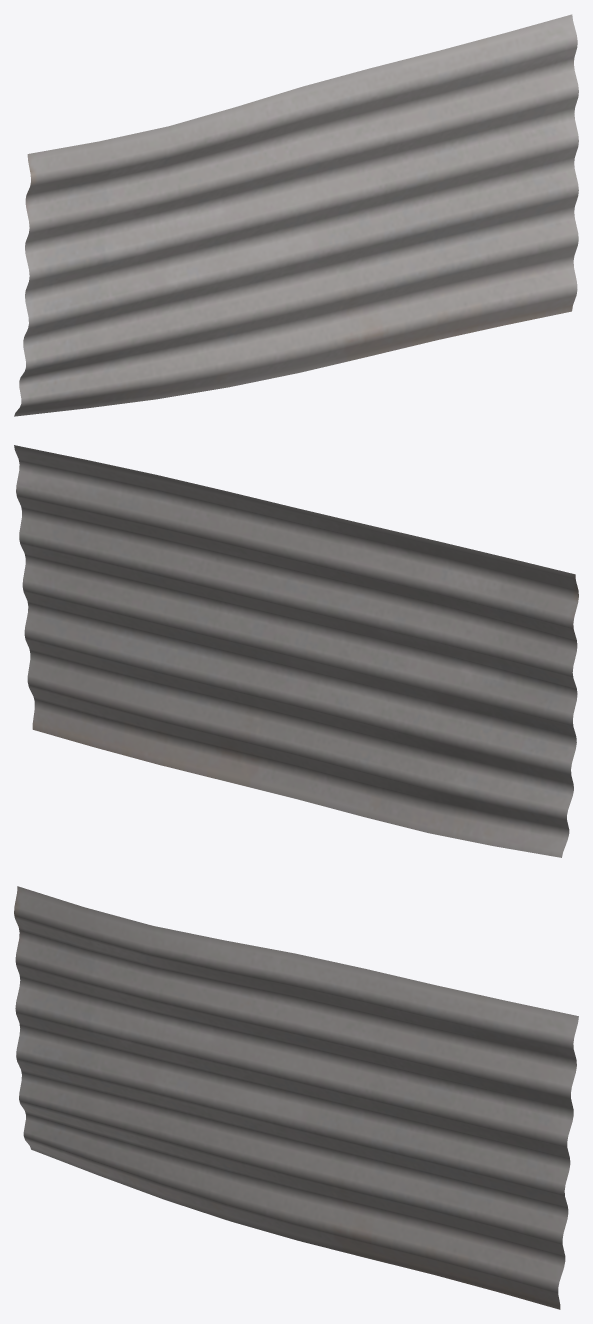
The model's file is props_2fort_corrugated_metal003.glb.
3 views of the same model, one above another, from view 1: azimuth 30°, elevation 25°; view 2: azimuth 150°, elevation 25°; view 3: azimuth 330°, elevation 25° (orthographic).
Visible parts, largest first — view 1: models/props_2fort/corrugated_metal003; view 2: models/props_2fort/corrugated_metal003; view 3: models/props_2fort/corrugated_metal003.
Boxes of the visible parts, <box> form: models/props_2fort/corrugated_metal003: <box>14,14,578,416</box>; models/props_2fort/corrugated_metal003: <box>14,445,578,857</box>; models/props_2fort/corrugated_metal003: <box>14,886,578,1309</box>.
Size of the model in its own units: 96 by 47.98 by 6.17.
1 material, 1 textured.
